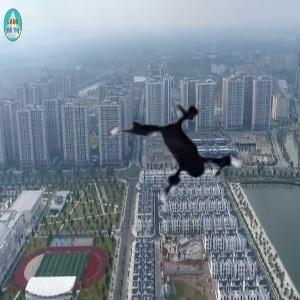drone: (95, 80, 257, 242)
